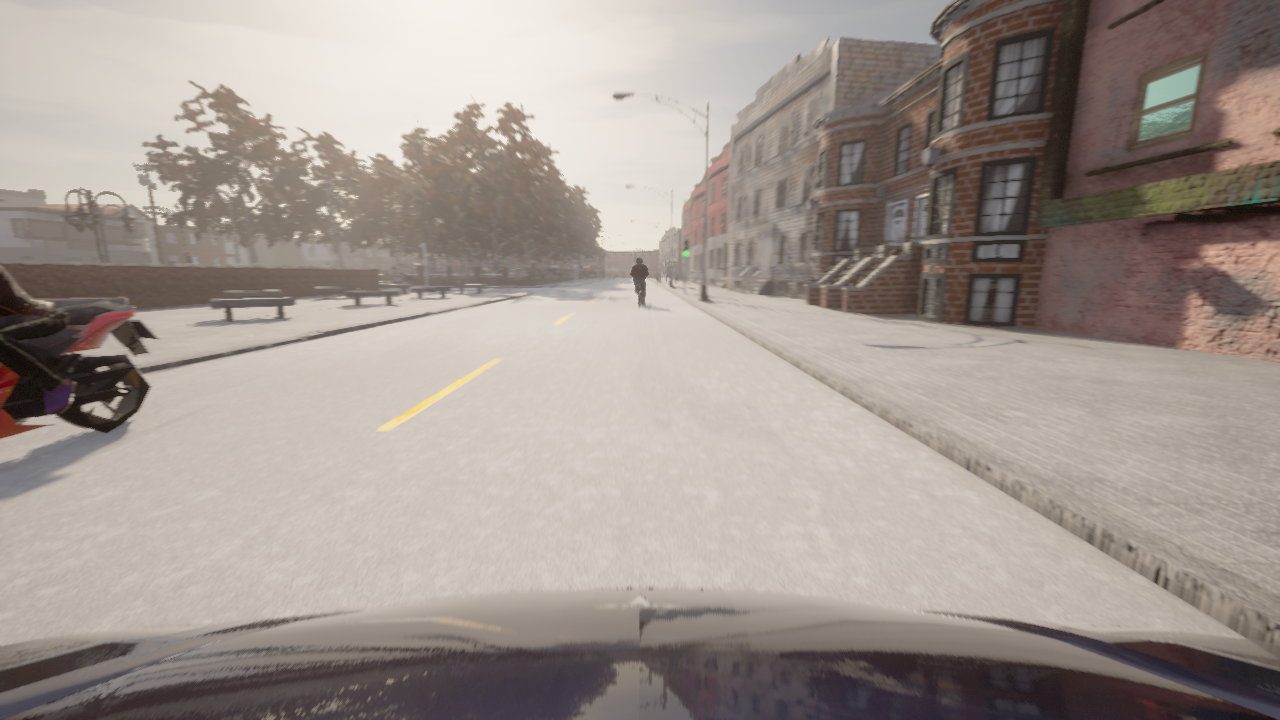cyclist: (0, 588, 1279, 719), (0, 300, 158, 439), (387, 269, 406, 283), (636, 284, 640, 306)
